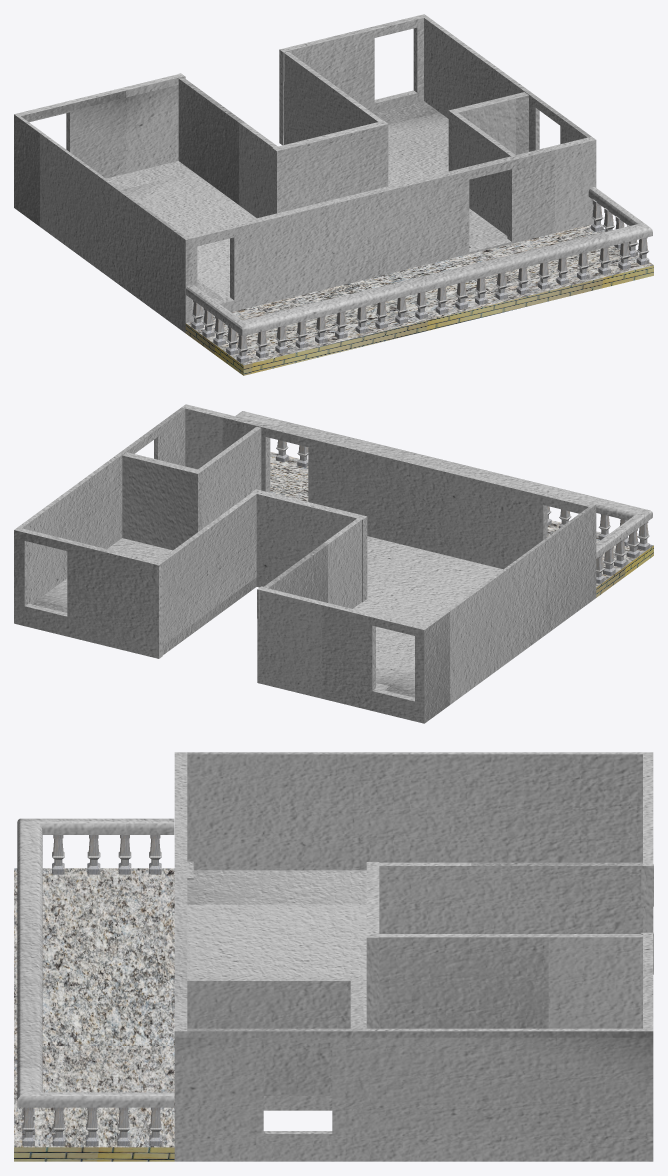
The model's file is Segundo_Piso.obj.
3 renders of one model, top to bottom at view 1: azimuth 30°, elevation 25°; view 2: azimuth 150°, elevation 25°; view 3: azimuth 270°, elevation 25°, orthographic. The views are drawn at different scales.
Visible parts, largest first — view 1: Cuadro:pCube49; view 2: Cuadro:pCube49; view 3: Cuadro:pCube49.
Part boxes in pixels (x1,y1,x2,y2): Cuadro:pCube49: (14, 14, 653, 375); Cuadro:pCube49: (14, 404, 653, 723); Cuadro:pCube49: (14, 752, 653, 1161).
Size of the model in its own units: 10.33 by 2.25 by 10.01.
Materials: 4 (4 with a texture image).
